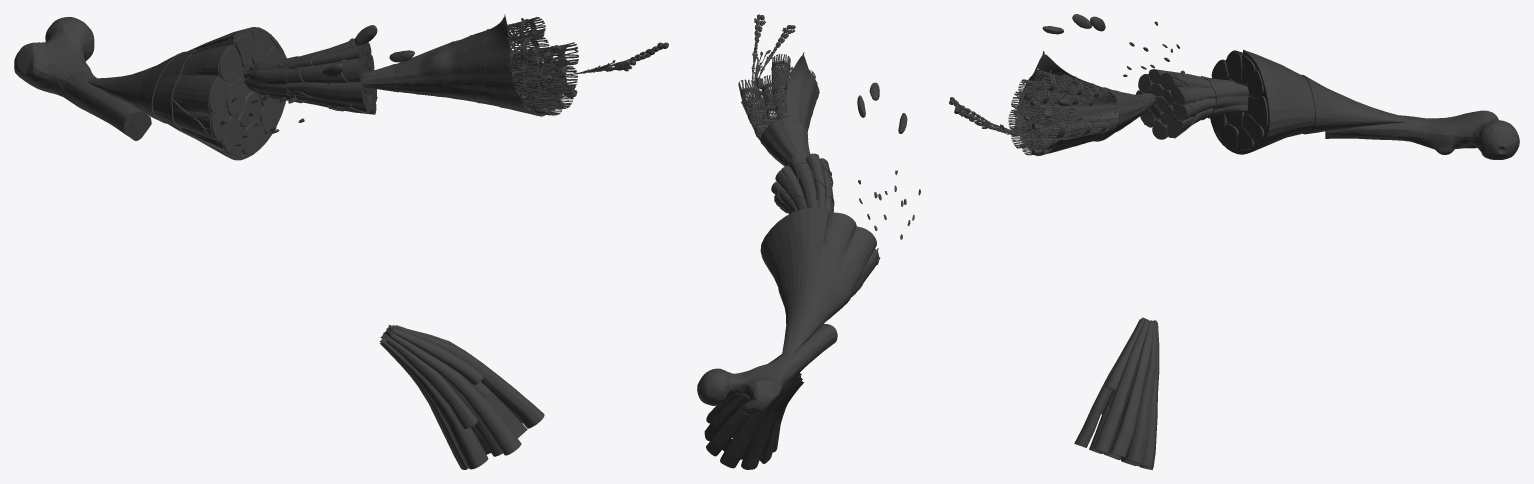
Rendered from sharedassets87.glb.
3 views of the same model, side by side, from view 1: azimuth 30°, elevation 25°; view 2: azimuth 150°, elevation 25°; view 3: azimuth 270°, elevation 25° (orthographic). The views are drawn at different scales.
Visible parts, largest first — view 1: 0016_Fascicles_skeletal_muscle_303644, 0022_Myofibrils_skeletal_muscle_303642, 0006_Sarcolemma_skeletal_muscle_303638, 0020_Bone_skeletal_muscle_303647, 0001_Perimysium_skeletal_muscle_303639, 0011_Sarcoplasmic reticulum_skeletal_muscle_3, 0014_Epimysium_skeletal_muscle_303645, 0017_Tendon_skeletal_muscle_303636, 0015_Sarcomere_6_skeletal_muscle_303657, 0021_Nuclei_skeletal_muscle_303640, 0010_Blood vessels_skeletal_muscle_303648, 0018_Endomysium_skeletal_muscle_303646; view 2: 0022_Myofibrils_skeletal_muscle_303642, 0014_Epimysium_skeletal_muscle_303645, 0020_Bone_skeletal_muscle_303647, 0017_Tendon_skeletal_muscle_303636, 0006_Sarcolemma_skeletal_muscle_303638, 0016_Fascicles_skeletal_muscle_303644, 0001_Perimysium_skeletal_muscle_303639, 0011_Sarcoplasmic reticulum_skeletal_muscle_3, 0021_Nuclei_skeletal_muscle_303640, 0019_Actin _thin_ filament_skeletal_muscle_30, 0008_T-tubules_skeletal_muscle_303635, 0010_Blood vessels_skeletal_muscle_303648; view 3: 0016_Fascicles_skeletal_muscle_303644, 0022_Myofibrils_skeletal_muscle_303642, 0020_Bone_skeletal_muscle_303647, 0011_Sarcoplasmic reticulum_skeletal_muscle_3, 0014_Epimysium_skeletal_muscle_303645, 0006_Sarcolemma_skeletal_muscle_303638, 0017_Tendon_skeletal_muscle_303636, 0001_Perimysium_skeletal_muscle_303639, 0015_Sarcomere_6_skeletal_muscle_303657, 0008_T-tubules_skeletal_muscle_303635, 0021_Nuclei_skeletal_muscle_303640.
Part boxes in pixels (box(x1,y1,x2,y2)): 0016_Fascicles_skeletal_muscle_303644: box(209, 31, 376, 155); 0022_Myofibrils_skeletal_muscle_303642: box(379, 325, 522, 469); 0006_Sarcolemma_skeletal_muscle_303638: box(394, 14, 565, 116); 0020_Bone_skeletal_muscle_303647: box(14, 17, 151, 140); 0001_Perimysium_skeletal_muscle_303639: box(172, 30, 302, 156); 0011_Sarcoplasmic reticulum_skeletal_muscle_3: box(453, 17, 578, 115); 0014_Epimysium_skeletal_muscle_303645: box(152, 27, 286, 160); 0017_Tendon_skeletal_muscle_303636: box(87, 51, 185, 123); 0015_Sarcomere_6_skeletal_muscle_303657: box(481, 368, 537, 421); 0021_Nuclei_skeletal_muscle_303640: box(220, 25, 414, 146); 0010_Blood vessels_skeletal_muscle_303648: box(172, 31, 377, 135); 0018_Endomysium_skeletal_muscle_303646: box(361, 64, 398, 92); 0022_Myofibrils_skeletal_muscle_303642: box(704, 373, 803, 469); 0014_Epimysium_skeletal_muscle_303645: box(760, 207, 868, 297); 0020_Bone_skeletal_muscle_303647: box(697, 323, 837, 415); 0017_Tendon_skeletal_muscle_303636: box(778, 264, 851, 355); 0006_Sarcolemma_skeletal_muscle_303638: box(741, 52, 819, 167); 0016_Fascicles_skeletal_muscle_303644: box(771, 153, 833, 213); 0001_Perimysium_skeletal_muscle_303639: box(797, 199, 878, 282); 0011_Sarcoplasmic reticulum_skeletal_muscle_3: box(738, 54, 817, 140); 0021_Nuclei_skeletal_muscle_303640: box(857, 82, 920, 239); 0019_Actin _thin_ filament_skeletal_muscle_30: box(751, 14, 795, 85); 0008_T-tubules_skeletal_muscle_303635: box(740, 59, 816, 147); 0010_Blood vessels_skeletal_muscle_303648: box(777, 157, 880, 270); 0016_Fascicles_skeletal_muscle_303644: box(1136, 51, 1268, 150); 0022_Myofibrils_skeletal_muscle_303642: box(1074, 317, 1159, 469); 0020_Bone_skeletal_muscle_303647: box(1325, 110, 1519, 159); 0011_Sarcoplasmic reticulum_skeletal_muscle_3: box(1008, 70, 1117, 155); 0014_Epimysium_skeletal_muscle_303645: box(1210, 49, 1403, 154); 0006_Sarcolemma_skeletal_muscle_303638: box(1018, 51, 1144, 155); 0017_Tendon_skeletal_muscle_303636: box(1302, 74, 1408, 134); 0001_Perimysium_skeletal_muscle_303639: box(1201, 50, 1267, 151); 0015_Sarcomere_6_skeletal_muscle_303657: box(1096, 392, 1128, 446); 0008_T-tubules_skeletal_muscle_303635: box(1022, 69, 1116, 154); 0021_Nuclei_skeletal_muscle_303640: box(1042, 14, 1184, 76).
Size of the model in its own units: 0.4458 by 0.623 by 0.7847.
Materials: 1 (1 with a texture image).
